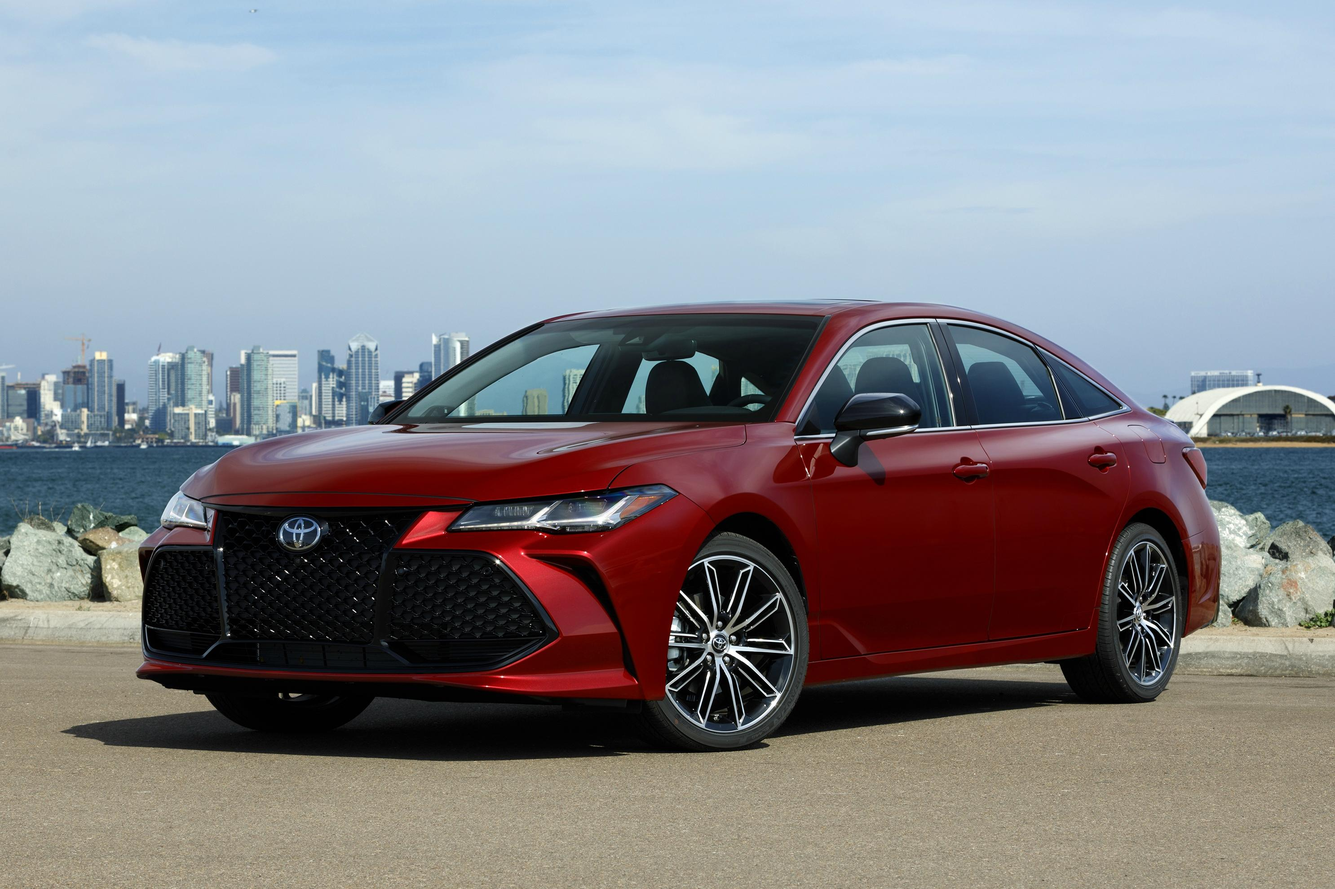Sedan: (139, 278, 1231, 732)
